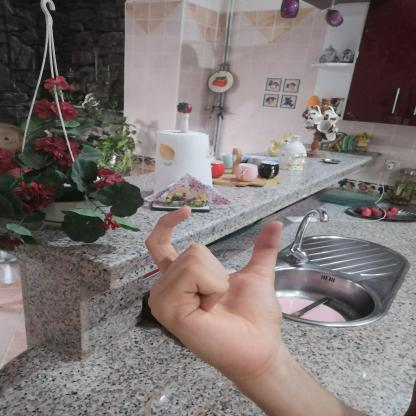NOON: (125, 194, 303, 382)
